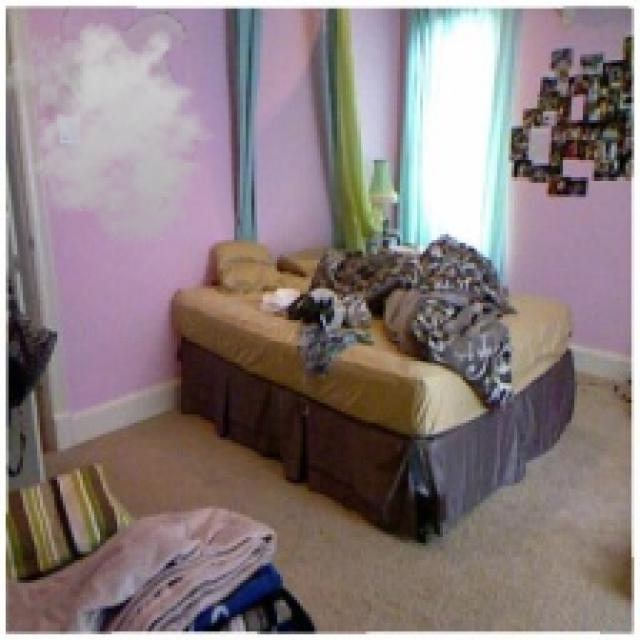smoke: (6, 6, 226, 246)
